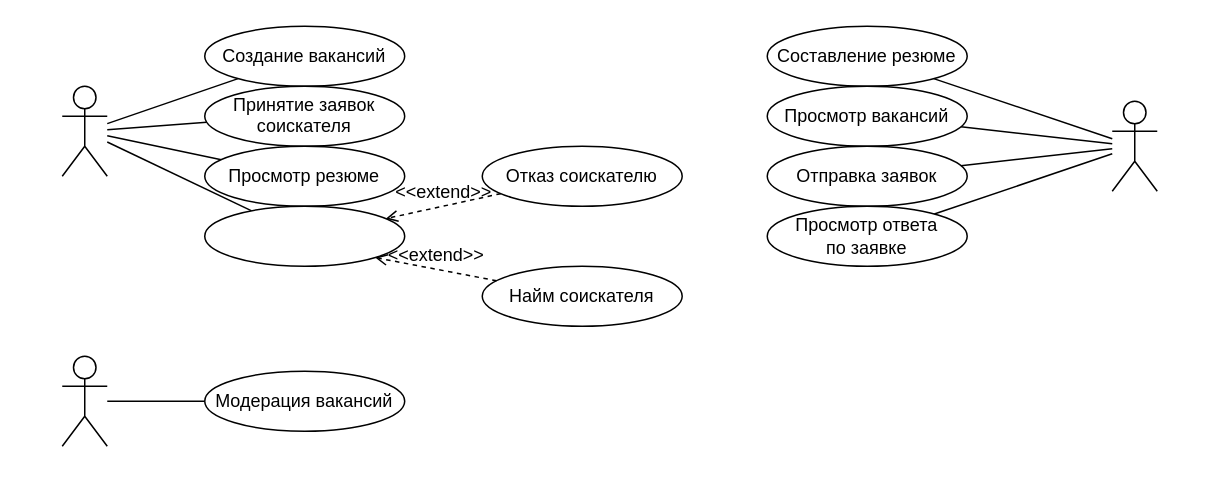
Image size: 1209x504. Some labels were removed from this diagram. The shapes that lost their labels are listed below. From the top down, each one's centre as x and y in pixels, then its label:
At [84,130]: "Работодатель".
At [1134,145]: "Соискатель".
At [304,235]: "Просмотр заявки".
At [84,400]: "Модератор".
